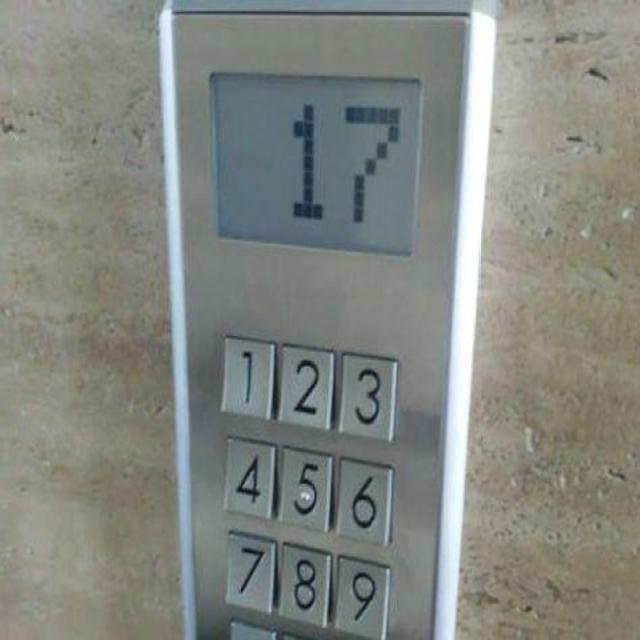1: (220, 330, 274, 422)
2: (277, 340, 336, 432)
3: (335, 349, 397, 444)
4: (222, 431, 273, 518)
5: (277, 442, 332, 538)
6: (332, 449, 393, 547)
7: (222, 527, 275, 616)
8: (276, 542, 330, 630)
9: (333, 553, 389, 639)
led: (208, 66, 424, 258)
